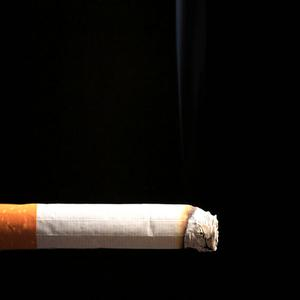cigarette: (1, 201, 222, 253)
